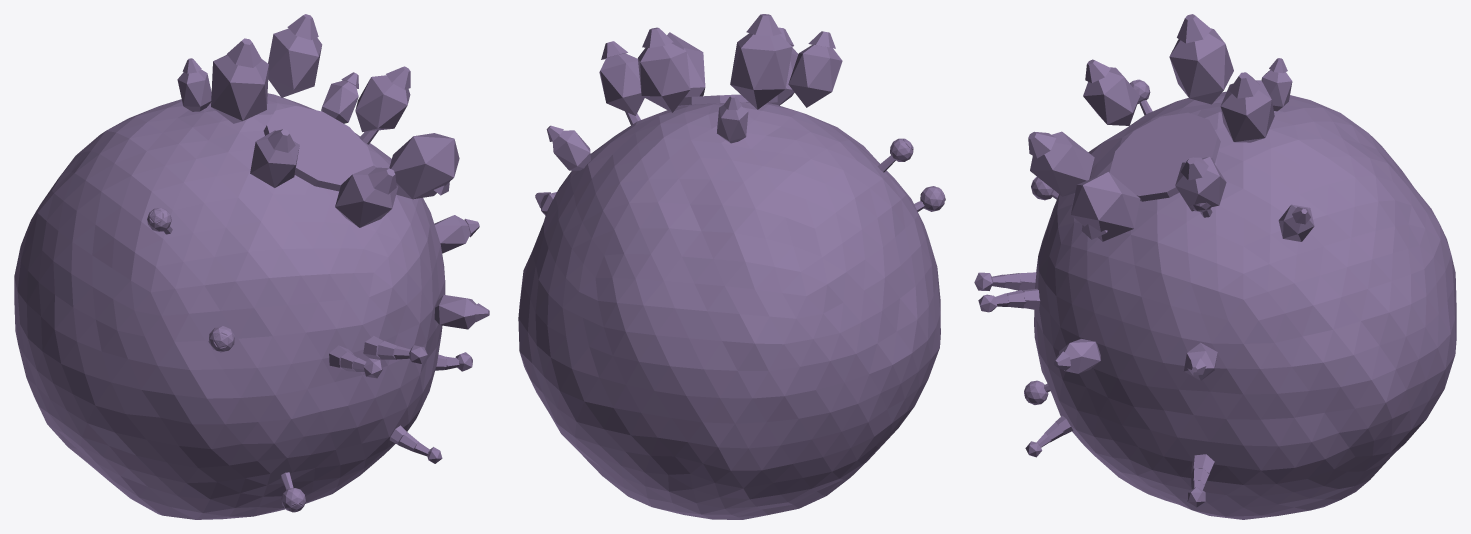
File: Alien_02.fbx
3 renders of one model, left to right at view 1: azimuth 30°, elevation 25°; view 2: azimuth 150°, elevation 25°; view 3: azimuth 270°, elevation 25°, orthographic. The views are drawn at different scales.
Parts seen in each view (by area): view 1: Alien_02; view 2: Alien_02; view 3: Alien_02.
Boxes of the visible parts, box(x1,y1,x2,y2) form: Alien_02: box(14, 14, 489, 519); Alien_02: box(518, 14, 945, 519); Alien_02: box(974, 14, 1456, 519).
Size of the model in its own units: 6.63 by 7.39 by 6.76.
